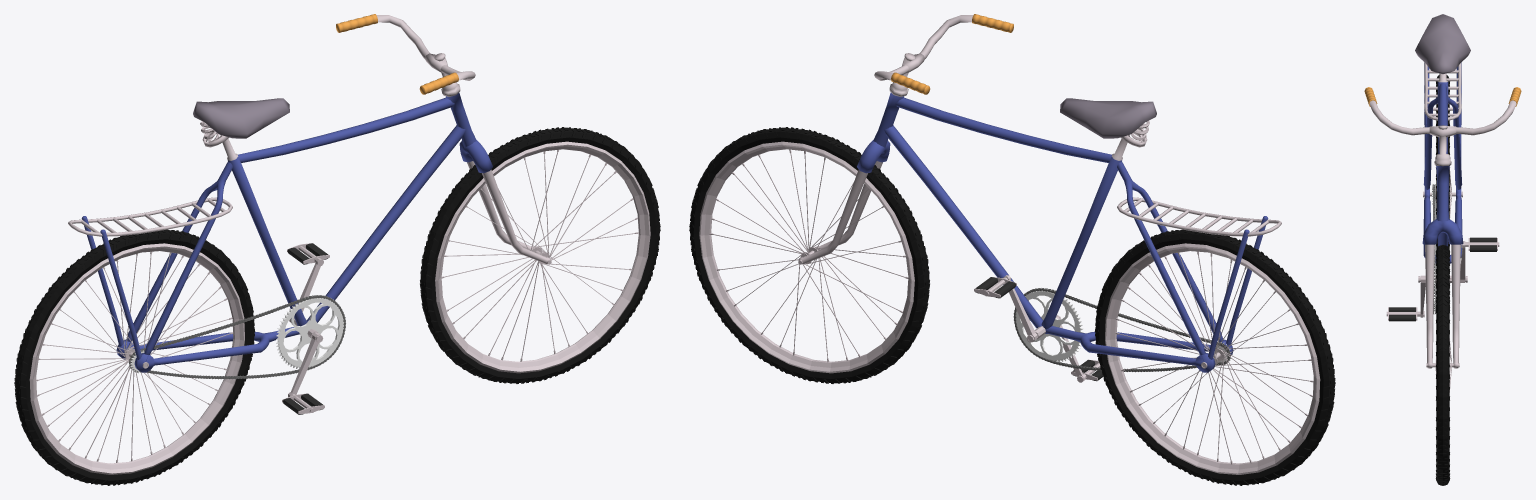
Rendered from old_bike.fbx.
3 renders of one model, left to right at view 1: azimuth 30°, elevation 25°; view 2: azimuth 150°, elevation 25°; view 3: azimuth 270°, elevation 25°, orthographic. The views are drawn at different scales.
Visible parts, largest first — view 1: body, wheel_back, wheel_front, gear, pedals; view 2: body, wheel_back, wheel_front, gear, pedals; view 3: body, wheel_front, pedals, wheel_back, gear.
Boxes of the visible parts, x1,y1,x2,y2 form: body: (68,14,551,372); wheel_back: (14,229,254,485); wheel_front: (420,127,660,383); gear: (128,295,345,379); pedals: (282,243,329,414); body: (798,14,1281,372); wheel_back: (1095,229,1335,485); wheel_front: (689,127,929,383); gear: (1013,288,1230,372); pedals: (974,275,1103,382); body: (1364,14,1521,368); wheel_front: (1426,245,1459,485); pedals: (1386,237,1499,321); wheel_back: (1423,75,1462,308); gear: (1432,183,1435,314).
Size of the model in its own units: 449 by 247 by 108.
